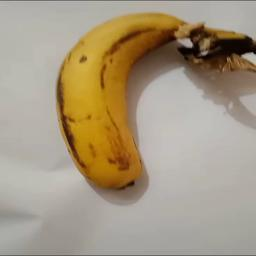Banana Semifresh: (47, 13, 256, 192)
